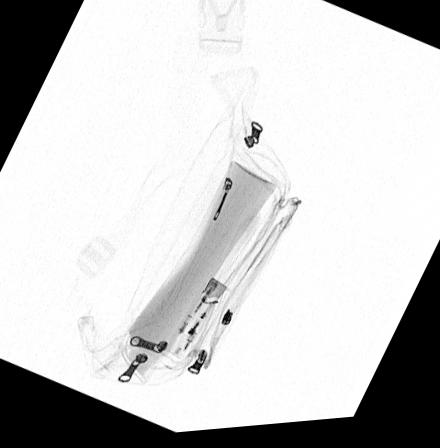Lighter: (160, 280, 230, 362)
